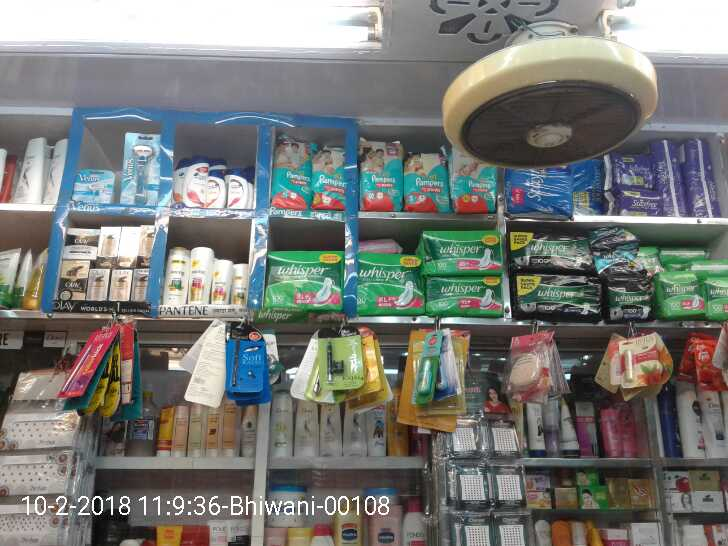venus: (122, 133, 159, 202), (73, 169, 115, 202)
